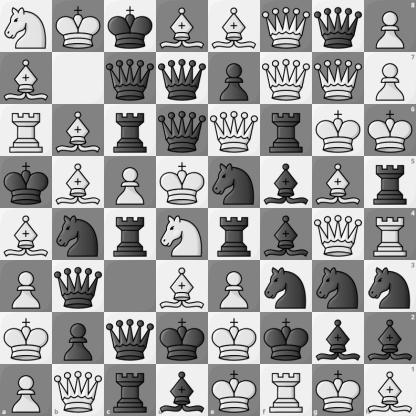B: (364, 364, 416, 416), (1, 53, 52, 104), (1, 209, 52, 260), (53, 105, 104, 156), (53, 157, 104, 208), (157, 1, 208, 52), (157, 261, 208, 312), (209, 1, 260, 52), (313, 157, 364, 208)
K: (312, 364, 364, 416), (364, 104, 416, 156), (209, 364, 260, 416), (1, 313, 52, 364), (53, 1, 104, 52), (157, 157, 208, 208), (209, 313, 260, 364), (313, 105, 364, 156)
N: (1, 1, 52, 52), (157, 209, 208, 260)
P: (0, 364, 52, 416), (364, 0, 416, 52), (364, 52, 416, 104), (1, 261, 52, 312), (105, 157, 156, 208), (209, 261, 260, 312)
Q: (52, 364, 104, 416), (209, 105, 260, 156), (261, 1, 312, 52), (261, 53, 312, 104), (313, 53, 364, 104), (313, 209, 364, 260)
R: (260, 364, 312, 416), (364, 209, 416, 260), (1, 105, 52, 156)
b: (156, 364, 209, 416), (364, 312, 416, 364), (261, 157, 312, 208), (261, 209, 312, 260), (313, 313, 364, 364)
board: (0, 0, 415, 415)
k: (1, 157, 52, 208), (105, 1, 156, 52), (157, 313, 208, 364), (261, 313, 312, 364)
n: (364, 260, 416, 312), (53, 209, 104, 260), (209, 157, 260, 208), (261, 261, 312, 312), (313, 261, 364, 312)
p: (53, 313, 104, 364), (209, 53, 260, 104)
q: (53, 261, 104, 312), (105, 53, 156, 104), (105, 313, 156, 364), (157, 53, 208, 104), (157, 105, 208, 156), (313, 1, 364, 52)
r: (364, 156, 416, 209), (104, 364, 156, 416), (105, 105, 156, 156), (105, 209, 156, 260), (209, 209, 260, 260), (261, 105, 312, 156)
